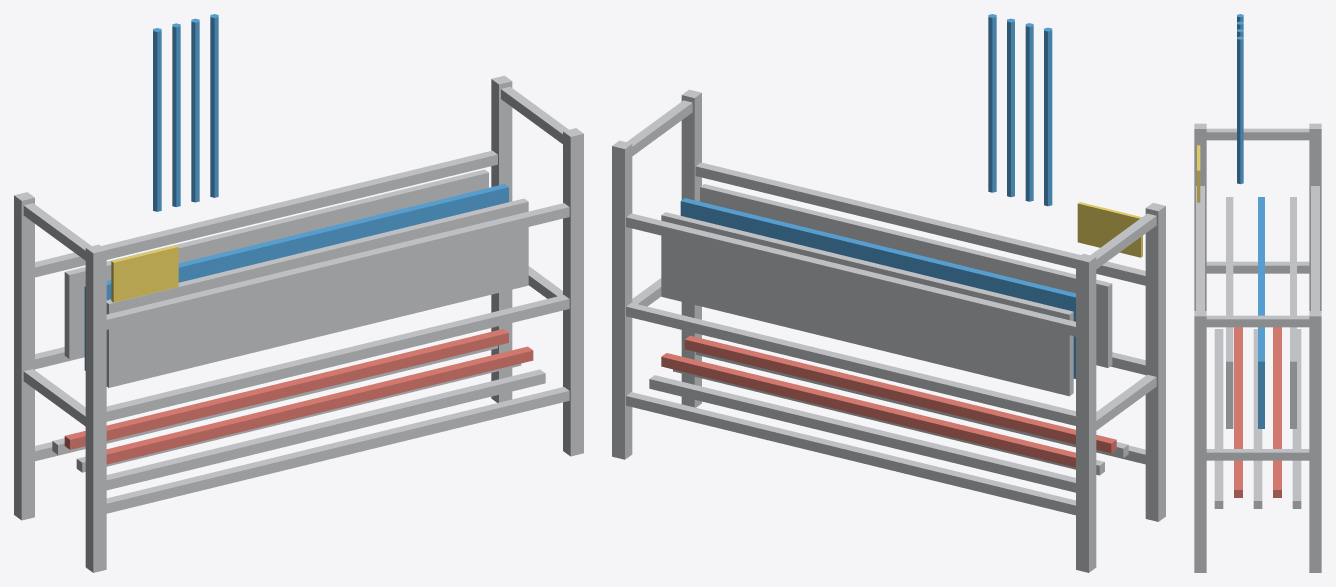
The model's file is dog-agility-and-training-field-equipment-store-rack-6c5ec6c3.glb.
3 renders of one model, left to right at view 1: azimuth 30°, elevation 25°; view 2: azimuth 150°, elevation 25°; view 3: azimuth 270°, elevation 25°, orthographic. The views are drawn at different scales.
Visible parts, largest first — view 1: equipment-store-rack-steel, equipment-store-rack-poppy, equipment-store-rack-azure, equipment-store-rack-sunflower; view 2: equipment-store-rack-steel, equipment-store-rack-azure, equipment-store-rack-poppy, equipment-store-rack-sunflower; view 3: equipment-store-rack-steel, equipment-store-rack-poppy, equipment-store-rack-azure, equipment-store-rack-sunflower.
Boxes of the visible parts, left/top/right/bottom form: equipment-store-rack-steel: left=14, top=75, right=583, bottom=572; equipment-store-rack-poppy: left=64, top=329, right=533, bottom=464; equipment-store-rack-azure: left=84, top=14, right=508, bottom=370; equipment-store-rack-sunflower: left=111, top=245, right=178, bottom=302; equipment-store-rack-steel: left=612, top=89, right=1165, bottom=572; equipment-store-rack-azure: left=680, top=14, right=1075, bottom=378; equipment-store-rack-poppy: left=661, top=335, right=1116, bottom=467; equipment-store-rack-sunflower: left=1077, top=202, right=1142, bottom=257; equipment-store-rack-steel: left=1194, top=123, right=1321, bottom=572; equipment-store-rack-poppy: left=1234, top=327, right=1281, bottom=497; equipment-store-rack-azure: left=1237, top=14, right=1264, bottom=428; equipment-store-rack-sunflower: left=1197, top=145, right=1200, bottom=202.
Bounding box in the file's own units: 2.57 × 2.5 × 0.7201.
